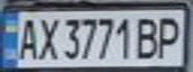1: (112, 15, 136, 60)
3: (60, 15, 81, 61)
7: (78, 15, 100, 60), (97, 15, 118, 60)
A: (12, 15, 42, 61)
B: (133, 13, 163, 60)
P: (154, 12, 187, 60)
X: (33, 14, 60, 61)
